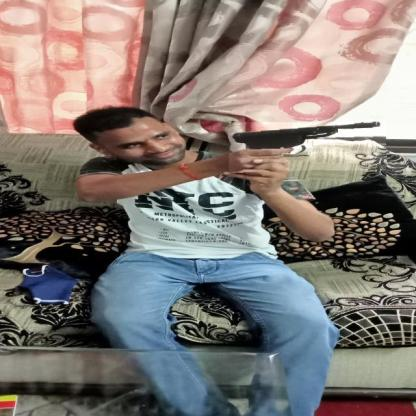handgun: (228, 120, 387, 172)
